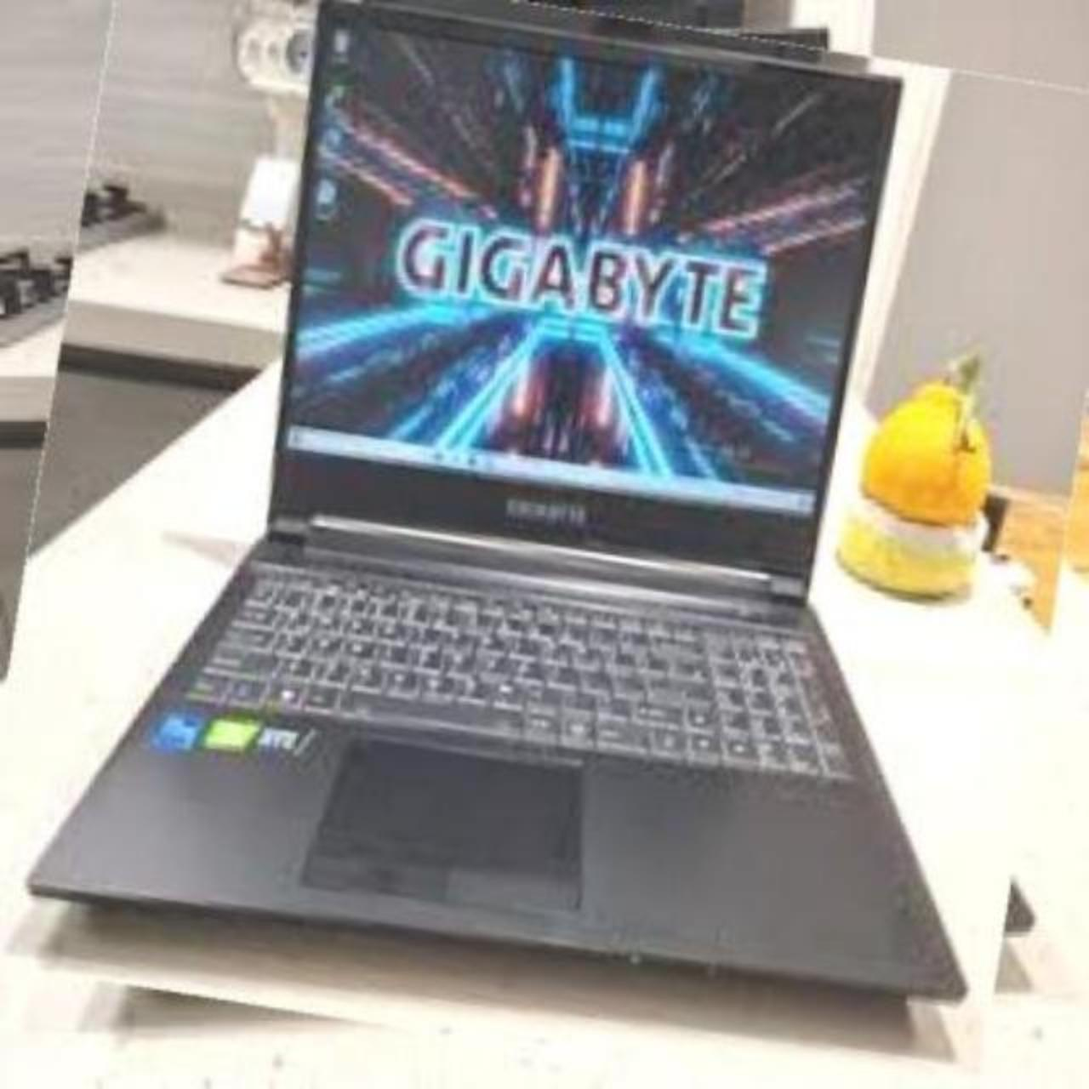laptop: (0, 1, 1089, 1081)
